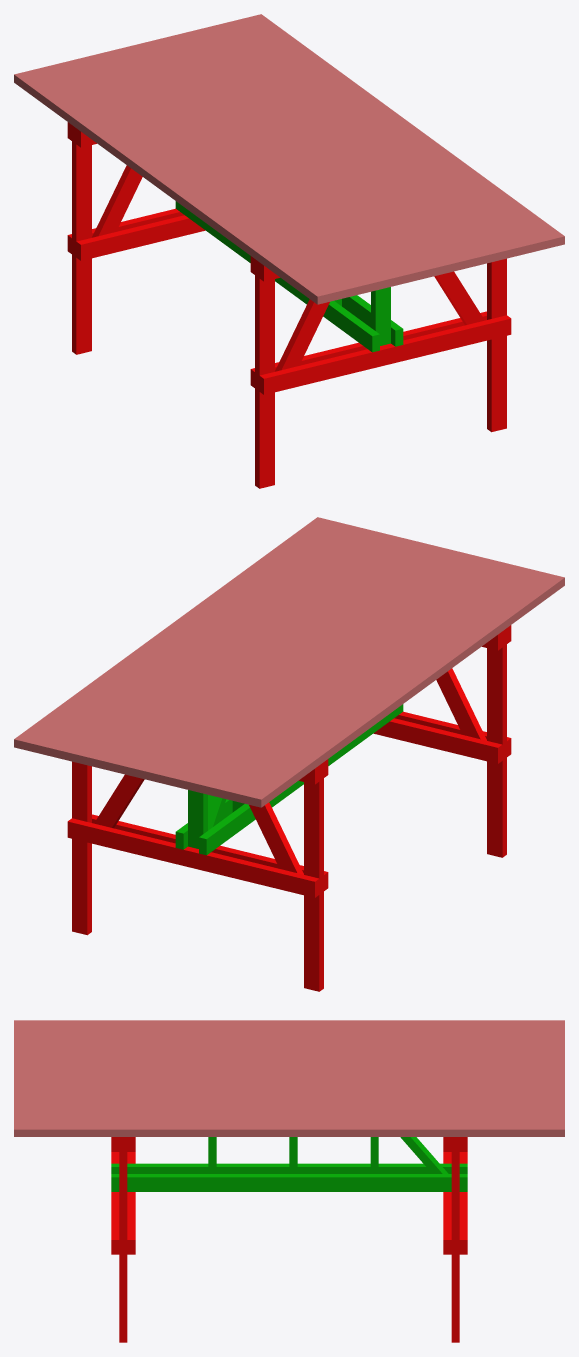
Rendered from result.glb.
3 views of the same model, one above another, from view 1: azimuth 30°, elevation 25°; view 2: azimuth 150°, elevation 25°; view 3: azimuth 270°, elevation 25° (orthographic). The views are drawn at different scales.
Parts seen in each view (by area): view 1: 12318c07-0240-405d-a291-285c8873e574__Box, b80c8972-b5b5-427e-8a28-fe7feb02b0ed__sideH, 772dc830-2ab3-4497-bfbf-598203b1ba22__undefined, 6212907e-caa5-49e2-98f7-b8a0321b05f3__undefined, 60571426-1405-4506-ab36-0bb2188d47c3__undefined, 5a10fdc3-5147-426a-8594-2dc8e353b345__undefined, 0e07295e-5be4-4cd8-a1c5-717b343e3675__undefined, 87007d3b-58aa-4dba-999c-d836582b6564__undefined, 74702219-7603-4dff-8891-ffbf7f884eff__undefined, 7df554b4-adc6-4055-b023-39e2f8fcf96b__undefined, 750d00fc-fb6b-4928-a221-a43bd6c17a1a__undefined, e023a42e-4089-4fae-ab29-b92871d5f8b7__undefined (+17 smaller); view 2: 12318c07-0240-405d-a291-285c8873e574__Box, 47a8e1a7-8224-4749-815e-496abfc9b2cf__undefined, 772dc830-2ab3-4497-bfbf-598203b1ba22__undefined, 6212907e-caa5-49e2-98f7-b8a0321b05f3__undefined, 60571426-1405-4506-ab36-0bb2188d47c3__undefined, 5a10fdc3-5147-426a-8594-2dc8e353b345__undefined, 0e07295e-5be4-4cd8-a1c5-717b343e3675__undefined, 87007d3b-58aa-4dba-999c-d836582b6564__undefined, 74702219-7603-4dff-8891-ffbf7f884eff__undefined, 7df554b4-adc6-4055-b023-39e2f8fcf96b__undefined, 750d00fc-fb6b-4928-a221-a43bd6c17a1a__undefined, e023a42e-4089-4fae-ab29-b92871d5f8b7__undefined (+16 smaller); view 3: 87007d3b-58aa-4dba-999c-d836582b6564__undefined, a2837890-4760-4436-a7a8-4362f379e5ba__strutH, 0e07295e-5be4-4cd8-a1c5-717b343e3675__undefined, 5a10fdc3-5147-426a-8594-2dc8e353b345__undefined, 1284103a-2c7d-4f58-b199-4313eed29fdd__undefined, 8523d0ca-b638-433f-b15e-7c1900c7f2fc__undefined, bca2756b-ebb3-49cd-84ba-96240aacd3c3__undefined, 60571426-1405-4506-ab36-0bb2188d47c3__undefined, 12318c07-0240-405d-a291-285c8873e574__Box, 74702219-7603-4dff-8891-ffbf7f884eff__undefined, 750d00fc-fb6b-4928-a221-a43bd6c17a1a__undefined, 7df554b4-adc6-4055-b023-39e2f8fcf96b__undefined (+13 smaller).
Part boxes in pixels (box(x1,y1,x2,y2)): 12318c07-0240-405d-a291-285c8873e574__Box: box(14, 70, 332, 304); b80c8972-b5b5-427e-8a28-fe7feb02b0ed__sideH: box(259, 315, 511, 394); 772dc830-2ab3-4497-bfbf-598203b1ba22__undefined: box(122, 44, 441, 278); 6212907e-caa5-49e2-98f7-b8a0321b05f3__undefined: box(153, 37, 472, 270); 60571426-1405-4506-ab36-0bb2188d47c3__undefined: box(200, 25, 518, 259); 5a10fdc3-5147-426a-8594-2dc8e353b345__undefined: box(76, 55, 394, 289); 0e07295e-5be4-4cd8-a1c5-717b343e3675__undefined: box(60, 59, 379, 293); 87007d3b-58aa-4dba-999c-d836582b6564__undefined: box(246, 14, 564, 247); 74702219-7603-4dff-8891-ffbf7f884eff__undefined: box(30, 67, 348, 300); 7df554b4-adc6-4055-b023-39e2f8fcf96b__undefined: box(107, 48, 425, 281); 750d00fc-fb6b-4928-a221-a43bd6c17a1a__undefined: box(45, 63, 363, 296); e023a42e-4089-4fae-ab29-b92871d5f8b7__undefined: box(138, 40, 456, 274); 12318c07-0240-405d-a291-285c8873e574__Box: box(246, 573, 564, 807); 47a8e1a7-8224-4749-815e-496abfc9b2cf__undefined: box(67, 818, 319, 897); 772dc830-2ab3-4497-bfbf-598203b1ba22__undefined: box(137, 547, 456, 781); 6212907e-caa5-49e2-98f7-b8a0321b05f3__undefined: box(106, 540, 425, 773); 60571426-1405-4506-ab36-0bb2188d47c3__undefined: box(60, 528, 378, 762); 5a10fdc3-5147-426a-8594-2dc8e353b345__undefined: box(184, 558, 502, 792); 0e07295e-5be4-4cd8-a1c5-717b343e3675__undefined: box(199, 562, 518, 796); 87007d3b-58aa-4dba-999c-d836582b6564__undefined: box(14, 517, 332, 750); 74702219-7603-4dff-8891-ffbf7f884eff__undefined: box(230, 570, 548, 803); 7df554b4-adc6-4055-b023-39e2f8fcf96b__undefined: box(153, 551, 471, 784); 750d00fc-fb6b-4928-a221-a43bd6c17a1a__undefined: box(215, 566, 533, 799); e023a42e-4089-4fae-ab29-b92871d5f8b7__undefined: box(122, 543, 440, 777); 87007d3b-58aa-4dba-999c-d836582b6564__undefined: box(14, 1123, 564, 1136); a2837890-4760-4436-a7a8-4362f379e5ba__strutH: box(111, 1174, 467, 1191); 0e07295e-5be4-4cd8-a1c5-717b343e3675__undefined: box(14, 1040, 564, 1047); 5a10fdc3-5147-426a-8594-2dc8e353b345__undefined: box(14, 1047, 564, 1054); 1284103a-2c7d-4f58-b199-4313eed29fdd__undefined: box(14, 1054, 564, 1061); 8523d0ca-b638-433f-b15e-7c1900c7f2fc__undefined: box(14, 1088, 564, 1095); bca2756b-ebb3-49cd-84ba-96240aacd3c3__undefined: box(14, 1095, 564, 1102); 60571426-1405-4506-ab36-0bb2188d47c3__undefined: box(14, 1102, 564, 1109); 12318c07-0240-405d-a291-285c8873e574__Box: box(14, 1020, 564, 1026); 74702219-7603-4dff-8891-ffbf7f884eff__undefined: box(14, 1027, 564, 1033); 750d00fc-fb6b-4928-a221-a43bd6c17a1a__undefined: box(14, 1034, 564, 1040); 7df554b4-adc6-4055-b023-39e2f8fcf96b__undefined: box(14, 1061, 564, 1067).
Bounding box in the file's own units: 800 × 725 × 1700.
